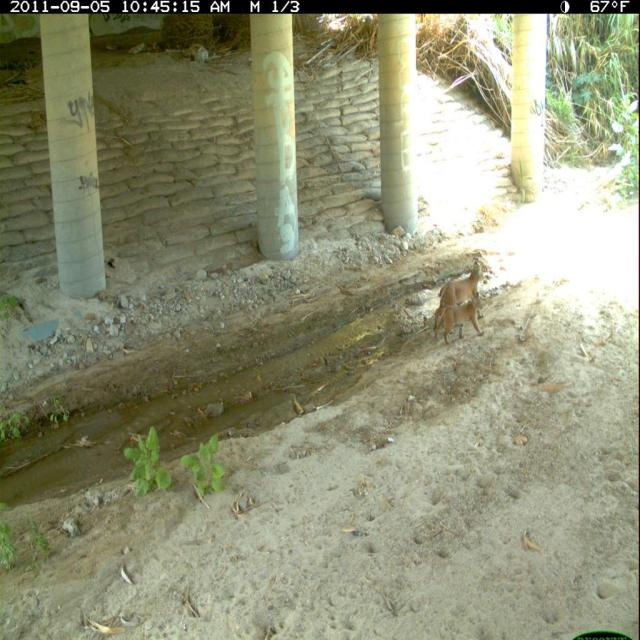bobcat: (430, 258, 488, 337), (431, 289, 486, 350)
